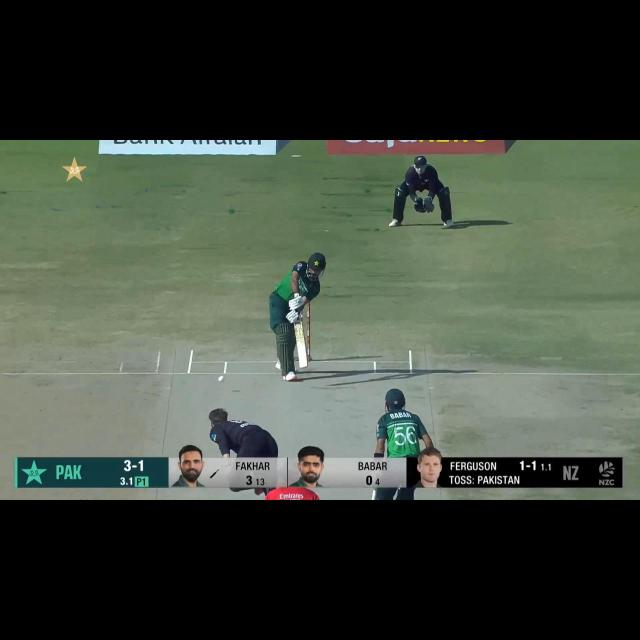bat: (293, 322, 311, 370)
toe: (299, 363, 308, 370)
